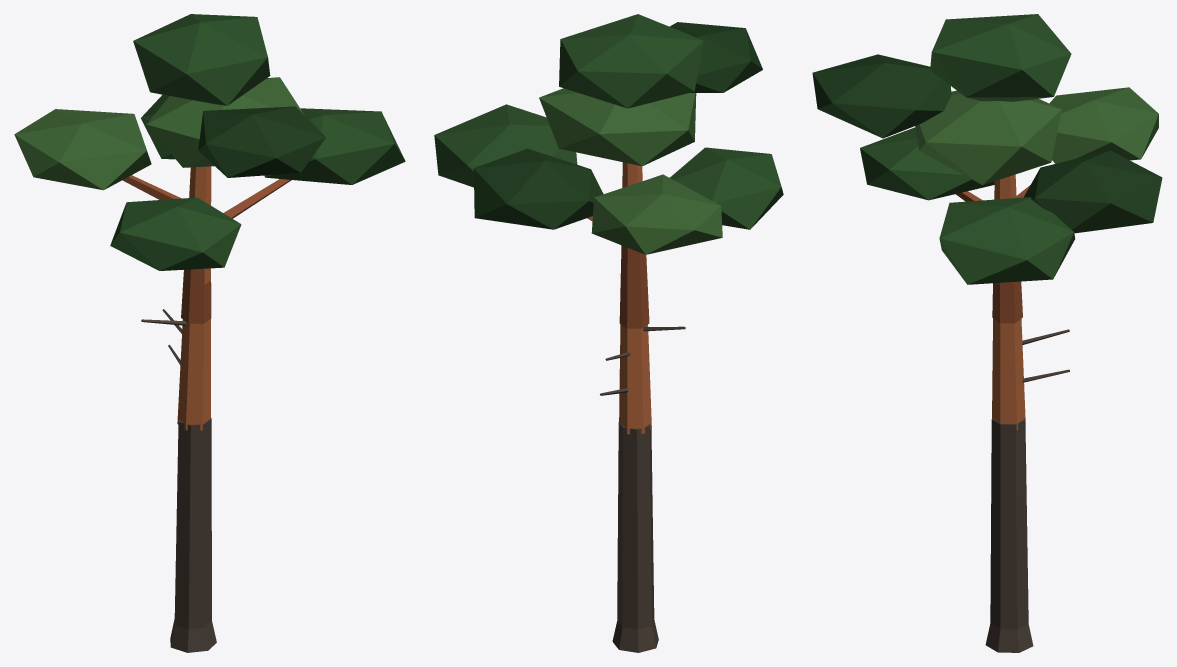
File: forest_pine_a.glb
3 renders of one model, left to right at view 1: azimuth 30°, elevation 25°; view 2: azimuth 150°, elevation 25°; view 3: azimuth 270°, elevation 25°, orthographic. The views are drawn at different scales.
Parts seen in each view (by area): view 1: forest_pine_a; view 2: forest_pine_a; view 3: forest_pine_a.
Part boxes in pixels (x1,y1,x2,y2): forest_pine_a: [14, 14, 405, 652]; forest_pine_a: [434, 14, 783, 652]; forest_pine_a: [812, 14, 1162, 652].
Size of the model in its own units: 5.47 by 10.06 by 5.12.
